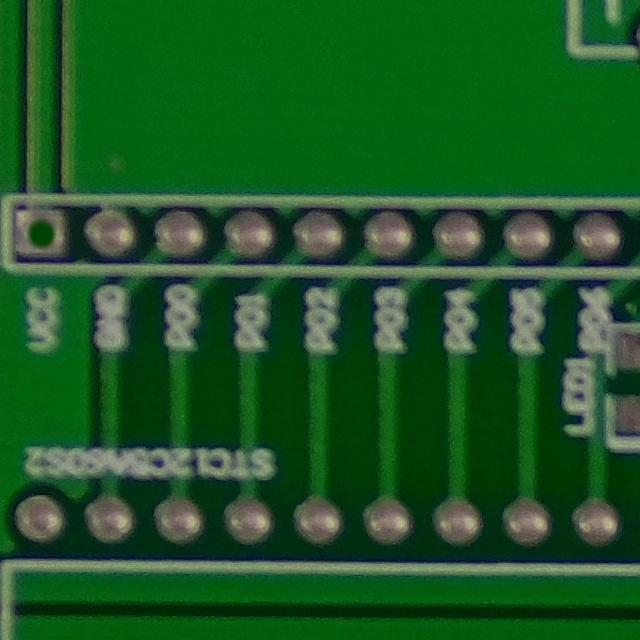missing_hole: (6, 199, 74, 271)
